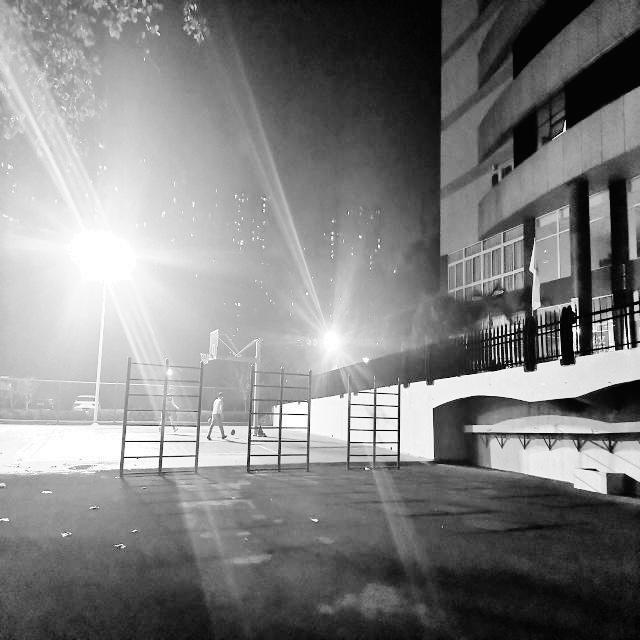Light: (65, 240, 131, 427), (314, 313, 352, 363)
